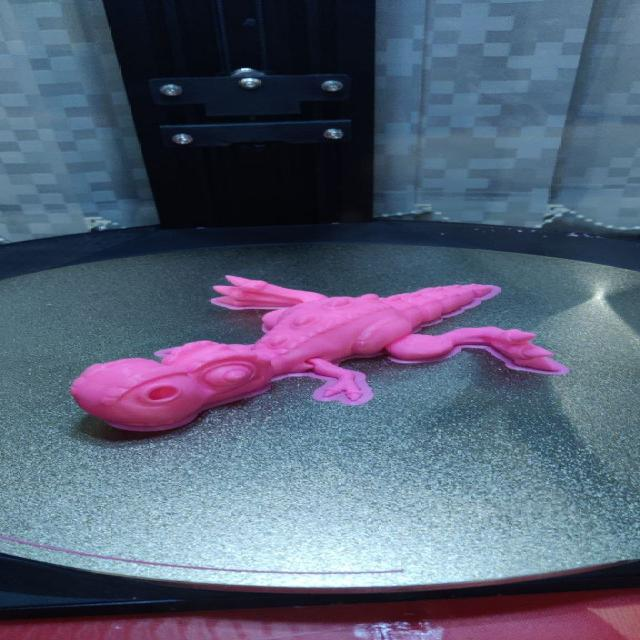Without deffect: (70, 259, 573, 446)
